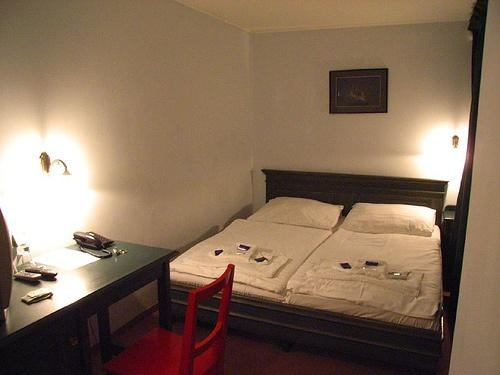chair: (101, 264, 237, 375)
